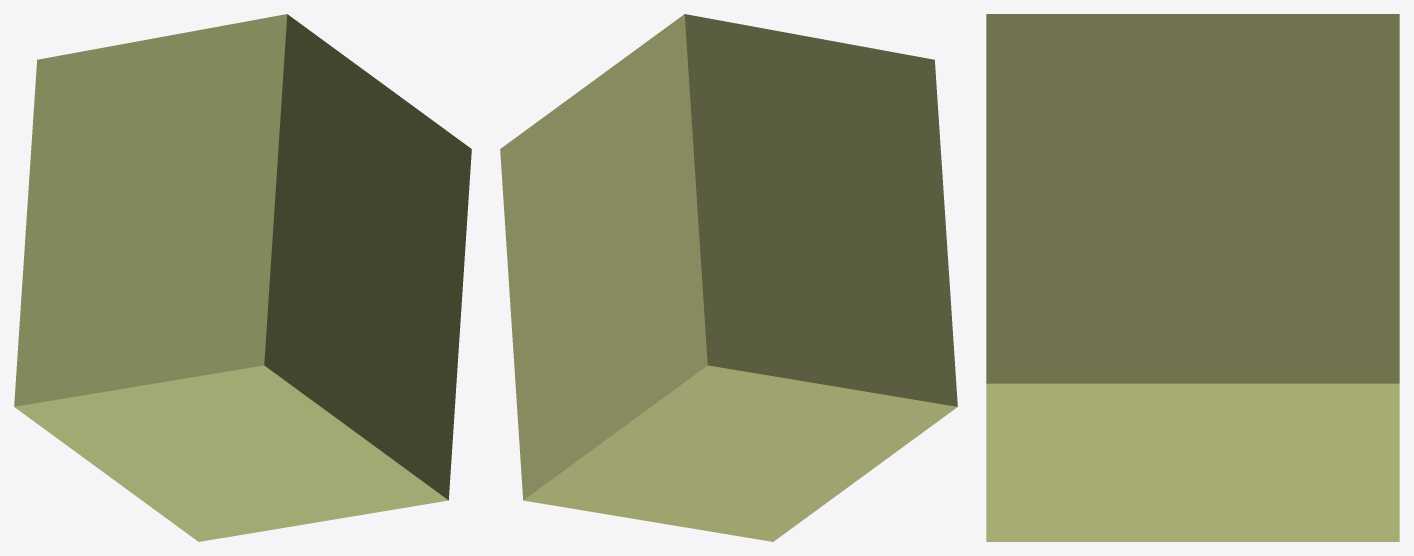
3 views of the same model, side by side, from view 1: azimuth 30°, elevation 25°; view 2: azimuth 150°, elevation 25°; view 3: azimuth 270°, elevation 25° (orthographic). The views are drawn at different scales.
Parts seen in each view (by area): view 1: 0_1_0_0_1_0_2_2_1_2_2; view 2: 0_1_0_0_1_0_2_2_1_2_2; view 3: 0_1_0_0_1_0_2_2_1_2_2.
Part boxes in pixels (bbox=[...]): 0_1_0_0_1_0_2_2_1_2_2: bbox=[14, 14, 471, 541]; 0_1_0_0_1_0_2_2_1_2_2: bbox=[500, 14, 957, 541]; 0_1_0_0_1_0_2_2_1_2_2: bbox=[986, 14, 1399, 541].
Size of the model in its own units: 7.69 by 9.71 by 9.
